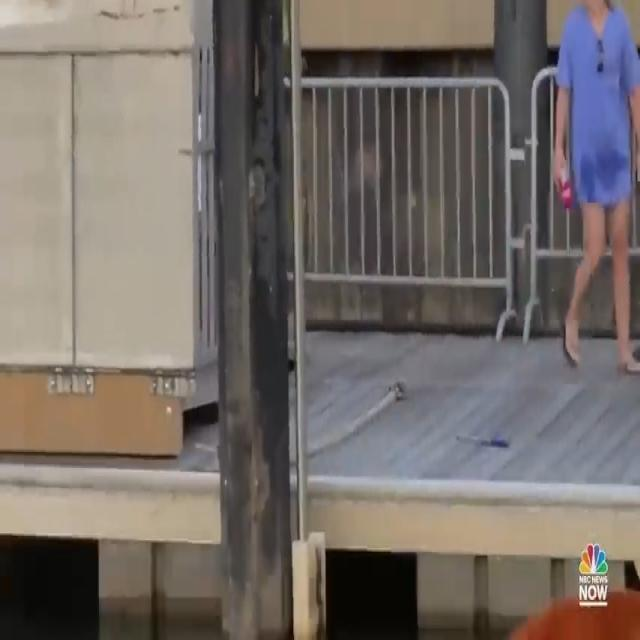non-fight: (550, 0, 640, 377)
